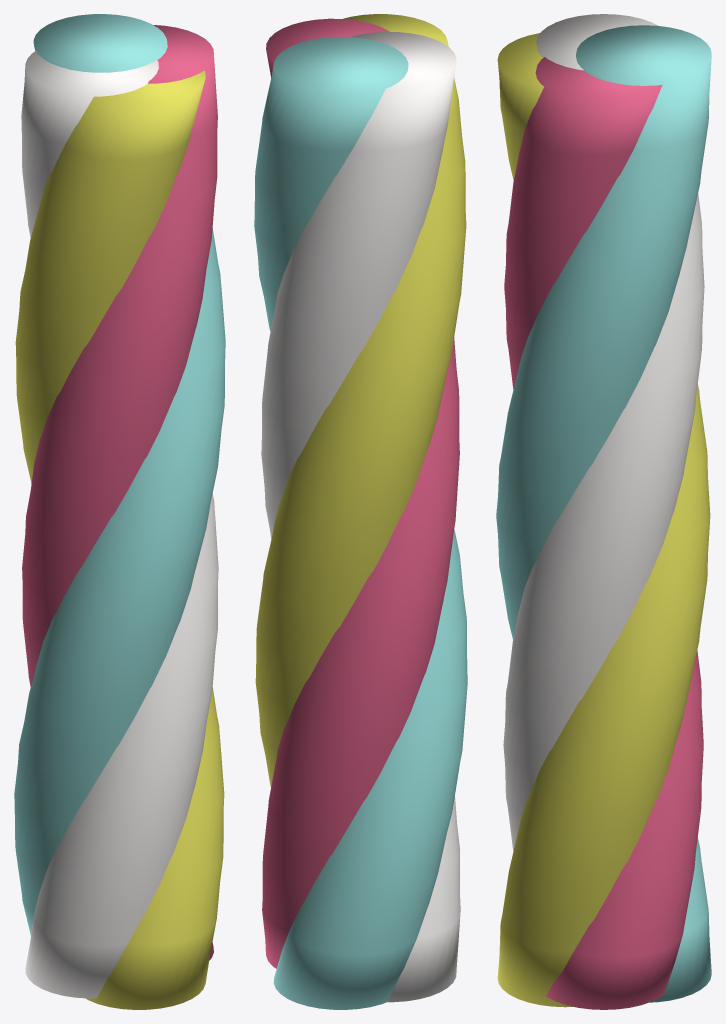
Rendered from poste.fbx.
3 renders of one model, left to right at view 1: azimuth 30°, elevation 25°; view 2: azimuth 150°, elevation 25°; view 3: azimuth 270°, elevation 25°, orthographic.
Parts seen in each view (by area): view 1: Circle; view 2: Circle; view 3: Circle.
Boxes of the visible parts, x1,y1,x2,y2 form: Circle: [14, 14, 225, 1009]; Circle: [254, 14, 467, 1009]; Circle: [496, 14, 711, 1009].
Bounding box in the file's own units: 3.18 × 15.03 × 3.18.
